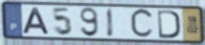5: (51, 7, 74, 37)
9: (78, 6, 100, 39)
A: (22, 7, 52, 36)
C: (129, 7, 155, 41)
D: (157, 9, 182, 40)
I: (106, 7, 115, 39)
